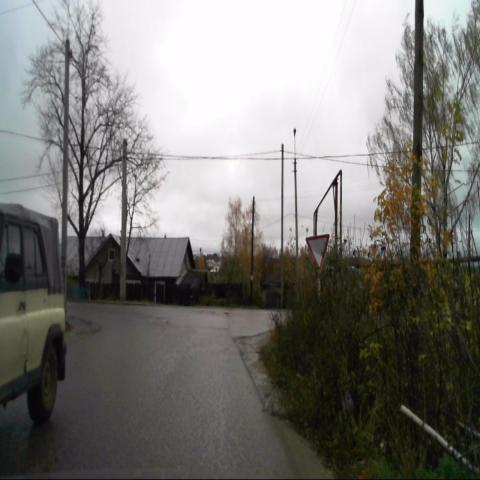2_4: (306, 233, 330, 272)
